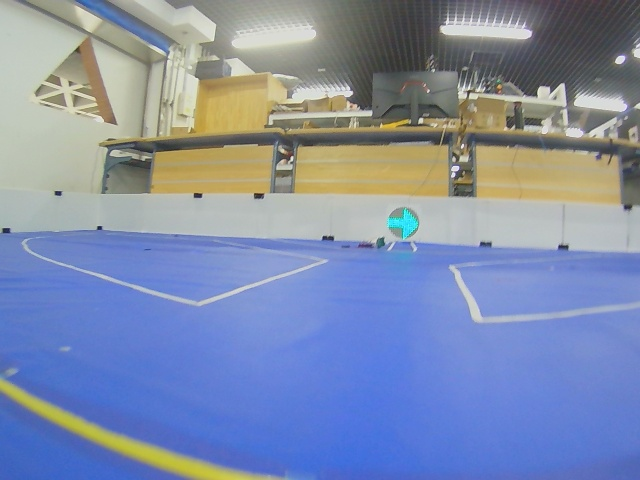right_green: (387, 207, 419, 240)
